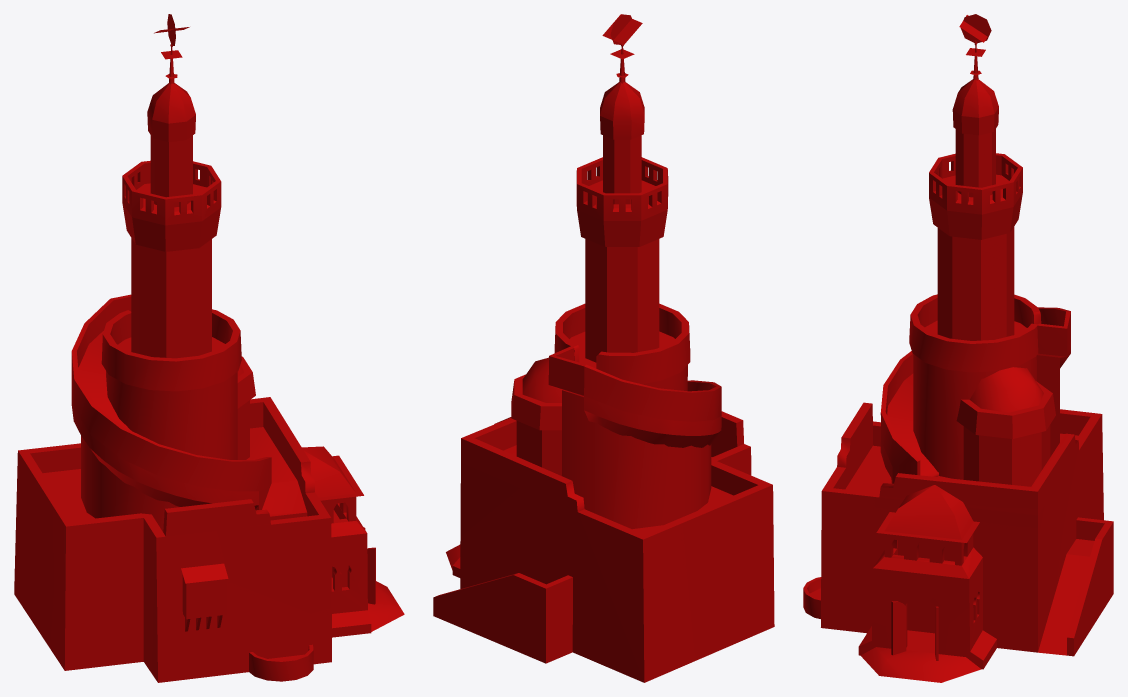
The model's file is s_emergency_station1_lod0.glb.
3 renders of one model, left to right at view 1: azimuth 30°, elevation 25°; view 2: azimuth 150°, elevation 25°; view 3: azimuth 270°, elevation 25°, orthographic. The views are drawn at different scales.
Parts seen in each view (by area): view 1: MODEL_s_alchemists_tower_lod0; view 2: MODEL_s_alchemists_tower_lod0; view 3: MODEL_s_alchemists_tower_lod0.
Part boxes in pixels (box(x1,y1,x2,y2)): MODEL_s_alchemists_tower_lod0: box(14, 14, 404, 682); MODEL_s_alchemists_tower_lod0: box(433, 14, 774, 682); MODEL_s_alchemists_tower_lod0: box(803, 14, 1113, 682).
Bounding box in the file's own units: 4.35 × 7.69 × 3.75.
